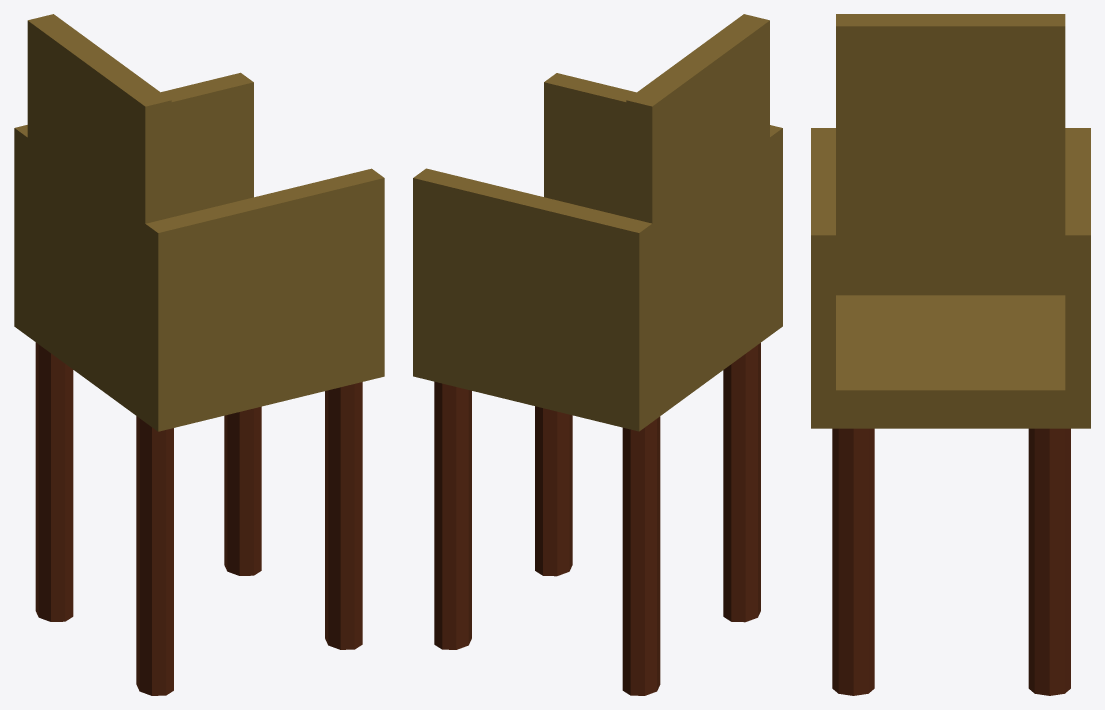
The model's file is Chair 3.fbx.
3 renders of one model, left to right at view 1: azimuth 30°, elevation 25°; view 2: azimuth 150°, elevation 25°; view 3: azimuth 270°, elevation 25°, orthographic. The views are drawn at different scales.
Visible parts, largest first — view 1: Chair; view 2: Chair; view 3: Chair.
Boxes of the visible parts, x1,y1,x2,y2 form: Chair: [14, 14, 384, 695]; Chair: [413, 14, 782, 695]; Chair: [811, 14, 1090, 695].
Bounding box in the file's own units: 1200 × 3000 × 1320.
